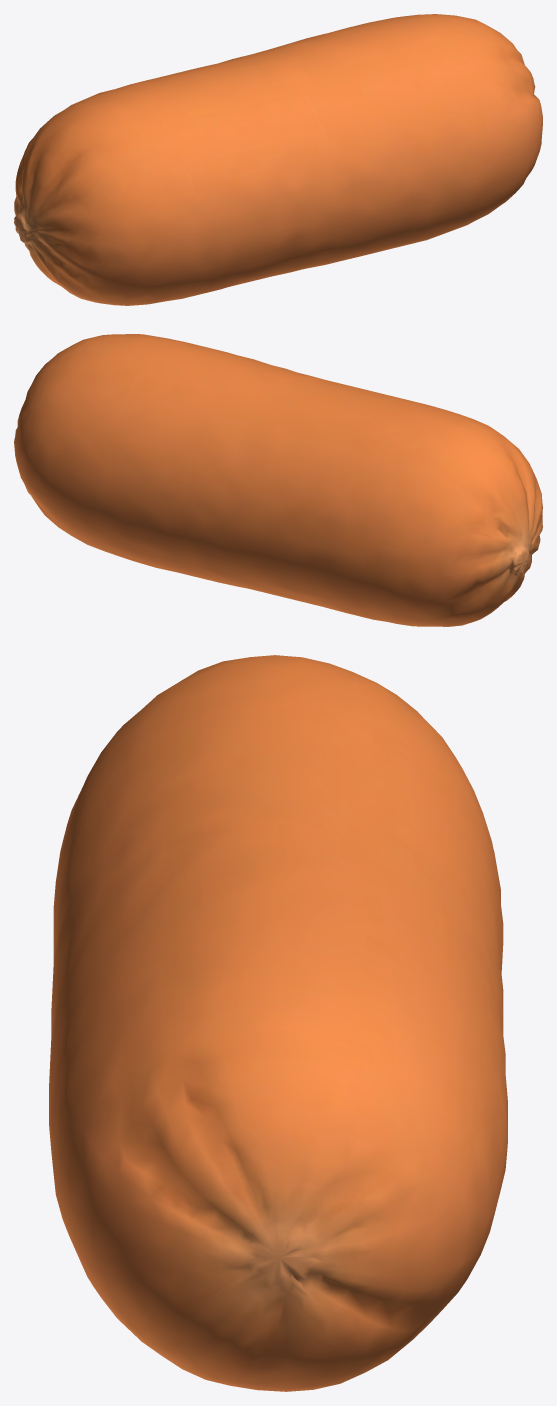
3 views of the same model, one above another, from view 1: azimuth 30°, elevation 25°; view 2: azimuth 150°, elevation 25°; view 3: azimuth 270°, elevation 25° (orthographic). The views are drawn at different scales.
Parts seen in each view (by area): view 1: Mini Sausage; view 2: Mini Sausage; view 3: Mini Sausage.
Boxes of the visible parts, x1,y1,x2,y2 form: Mini Sausage: [14, 14, 542, 305]; Mini Sausage: [14, 334, 542, 626]; Mini Sausage: [49, 655, 507, 1391].
Size of the model in its own units: 0.998 by 0.3926 by 0.3965.
1 material, 1 textured.
